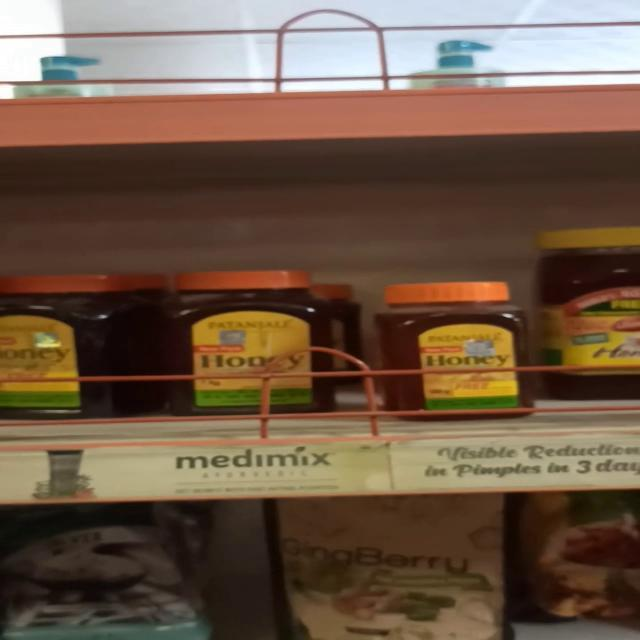Patanjali Honey: (163, 272, 338, 422), (391, 283, 528, 420)
